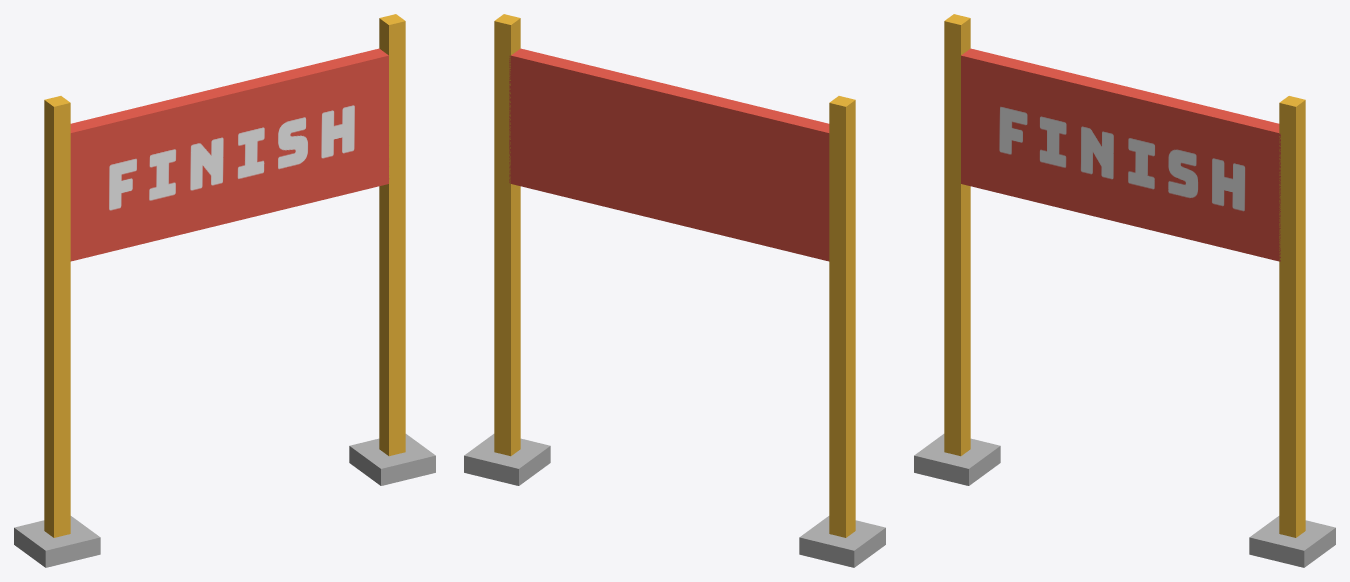
File: finish.glb
3 views of the same model, side by side, from view 1: azimuth 30°, elevation 25°; view 2: azimuth 150°, elevation 25°; view 3: azimuth 330°, elevation 25° (orthographic).
Parts seen in each view (by area): view 1: Finish; view 2: Finish; view 3: Finish.
Part boxes in pixels (bbox=[...]): Finish: bbox=[14, 14, 435, 567]; Finish: bbox=[464, 14, 885, 567]; Finish: bbox=[914, 14, 1335, 567].
Bounding box in the file's own units: 4.65 × 5.11 × 0.6542.
1 material, 1 textured.
